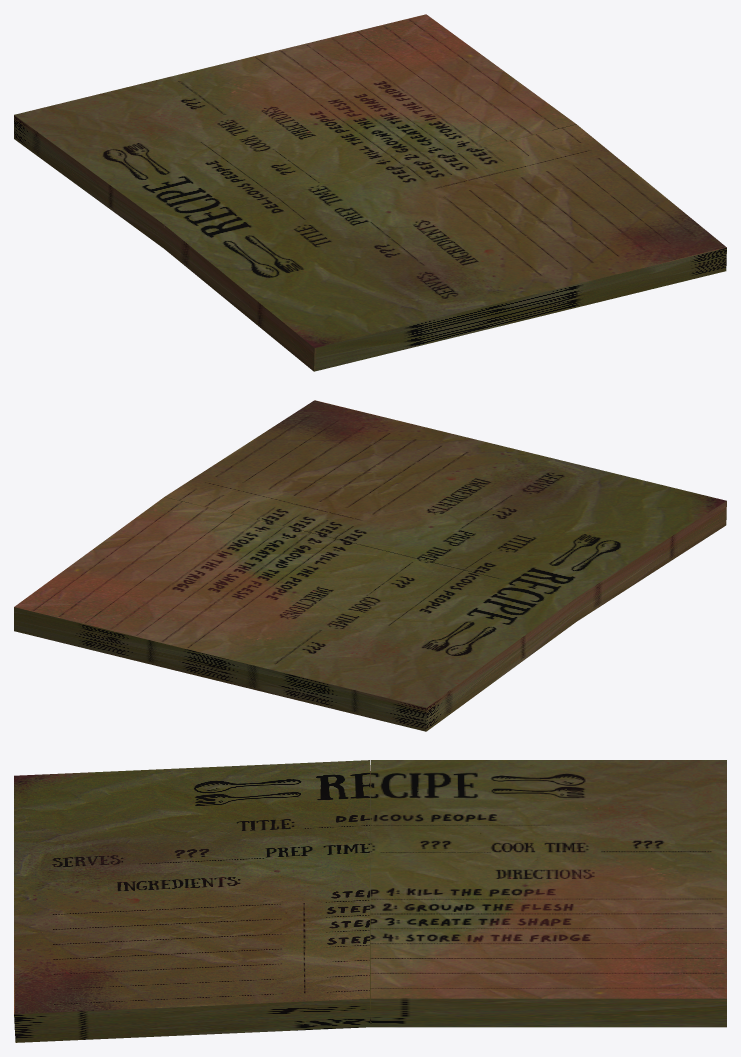
File: Recipebook Bad.fbx
3 renders of one model, top to bottom at view 1: azimuth 30°, elevation 25°; view 2: azimuth 150°, elevation 25°; view 3: azimuth 270°, elevation 25°, orthographic. The views are drawn at different scales.
Visible parts, largest first — view 1: Cube.002, Cube; view 2: Cube, Cube.002; view 3: Cube, Cube.002.
Boxes of the visible parts, x1,y1,x2,y2 form: Cube.002: (164,124,726,371); Cube: (14,14,576,248); Cube: (14,497,576,731); Cube.002: (165,400,726,621); Cube: (370,760,726,1027); Cube.002: (14,760,371,1042).
Bounding box in the file's own units: 158 × 13.69 × 200.
1 material, 1 textured.
